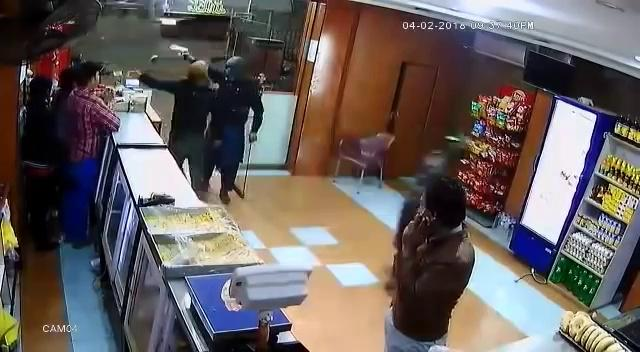weapon: (165, 39, 190, 61)
